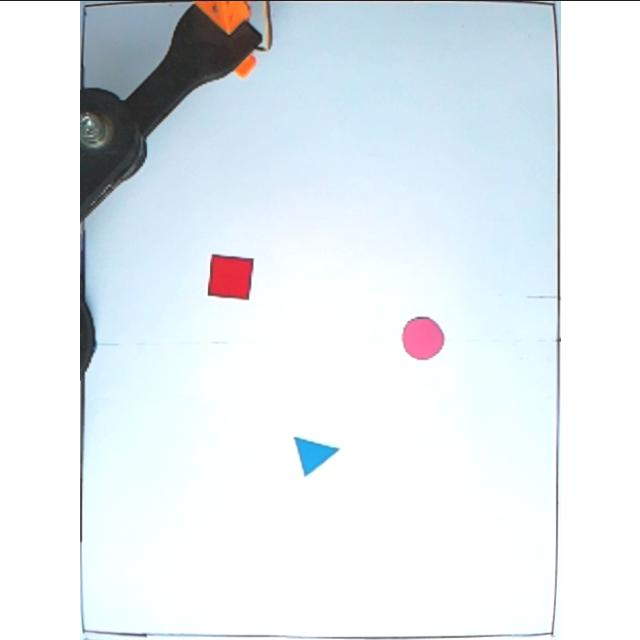blueTriangle: (290, 432, 342, 476)
pinkCircle: (398, 314, 446, 361)
redSquare: (206, 251, 254, 303)
